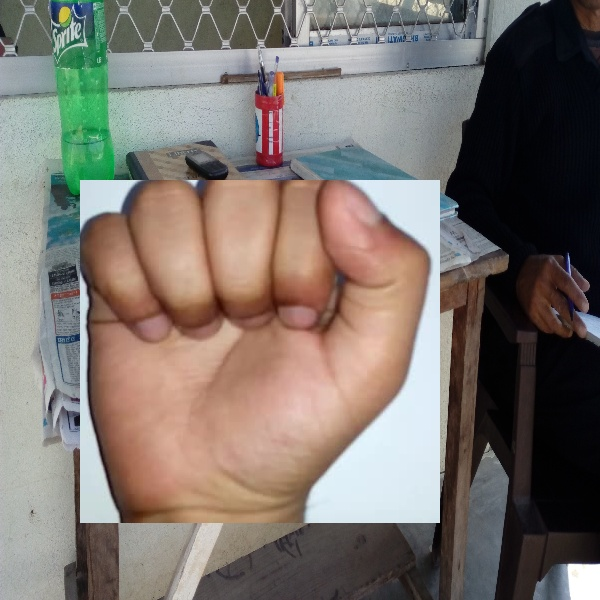A: (80, 180, 440, 523)
